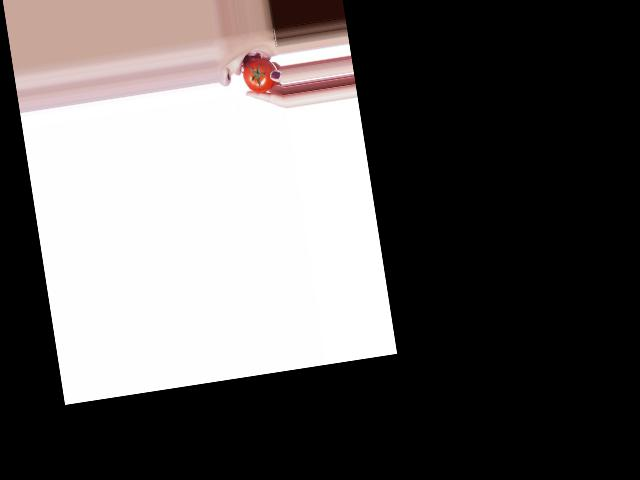tomato: (241, 56, 280, 95)
